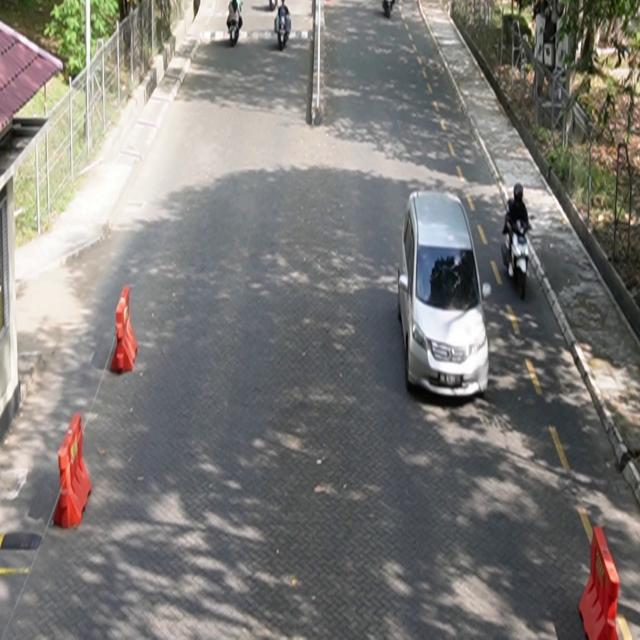car: (398, 190, 492, 400)
